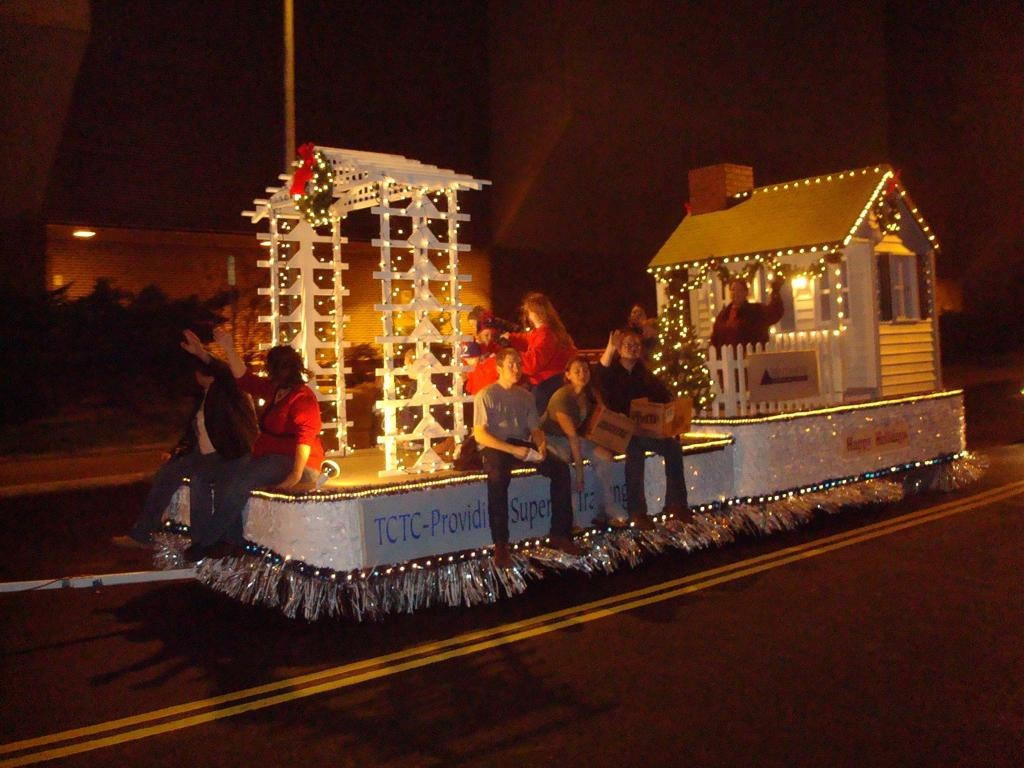human_face: (266, 362, 290, 386), (501, 354, 521, 382), (570, 361, 590, 385), (620, 336, 640, 358), (404, 349, 420, 367), (195, 366, 209, 386), (728, 282, 742, 300), (630, 306, 644, 322), (528, 308, 538, 324), (642, 324, 652, 338), (481, 332, 491, 344)
